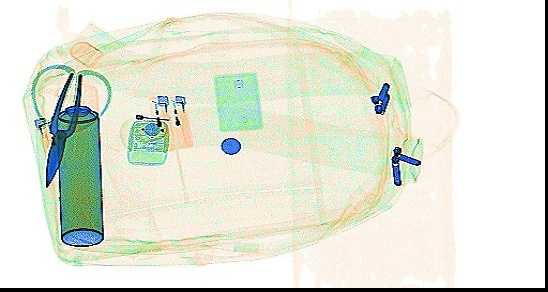lighter: (32, 116, 65, 180), (150, 92, 175, 152), (168, 92, 192, 148)
pressure: (52, 81, 105, 246)
scissors: (30, 63, 111, 188)
